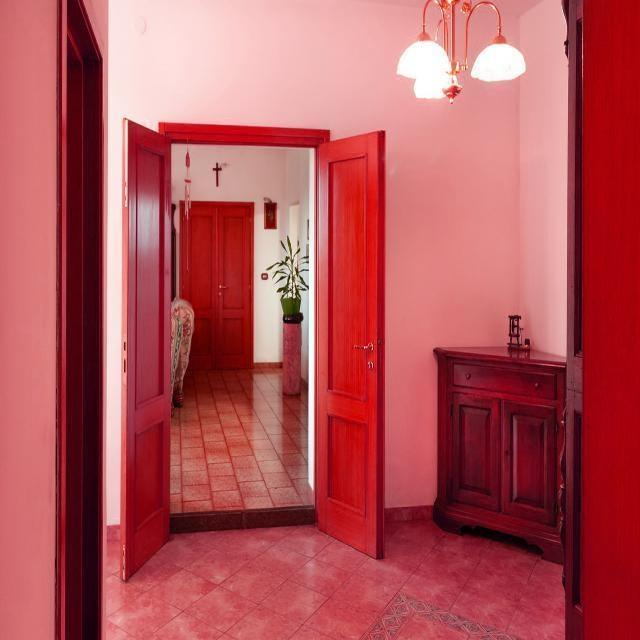door: (314, 129, 384, 559), (116, 114, 176, 586), (176, 200, 254, 370)
